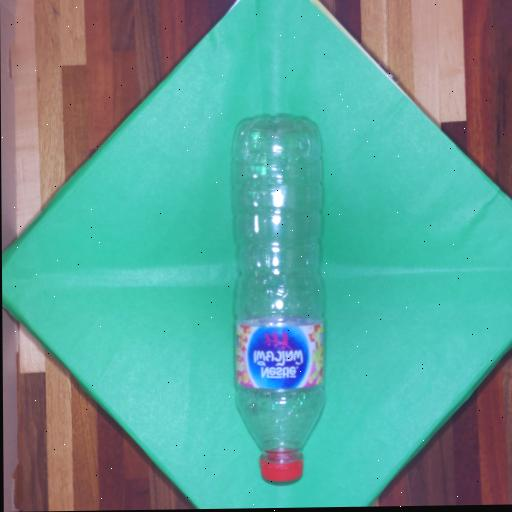bottle: (231, 111, 324, 483)
